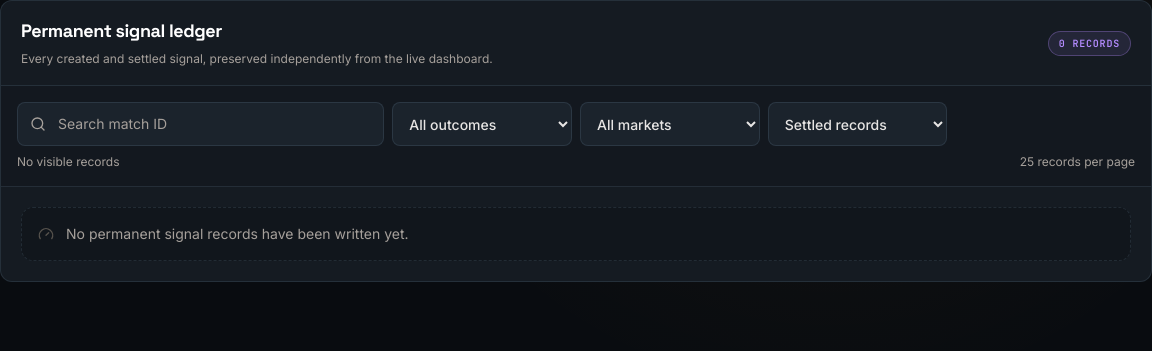
Test: SignalArchivePanel › gives the filtered empty-state reset a full-size target
The image size is (1152, 351).
Expected: the text "No permanent signal records have been written yet." is shown, [66,224,409,244]
Select "Incorrect" in the dropdown named "Outcome" at {"x": 482, "y": 124}, box [392,102,572,146]
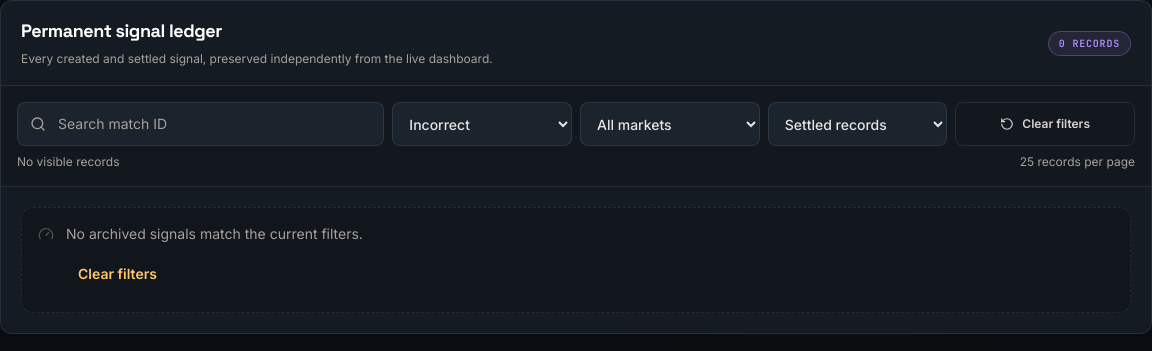
Expected: the text "No archived signals match the current filters." is shown, [66,224,363,244]
Expected: the number of buttons "Clear filters" is 2, [955,102,1135,146]; [66,252,169,296]
